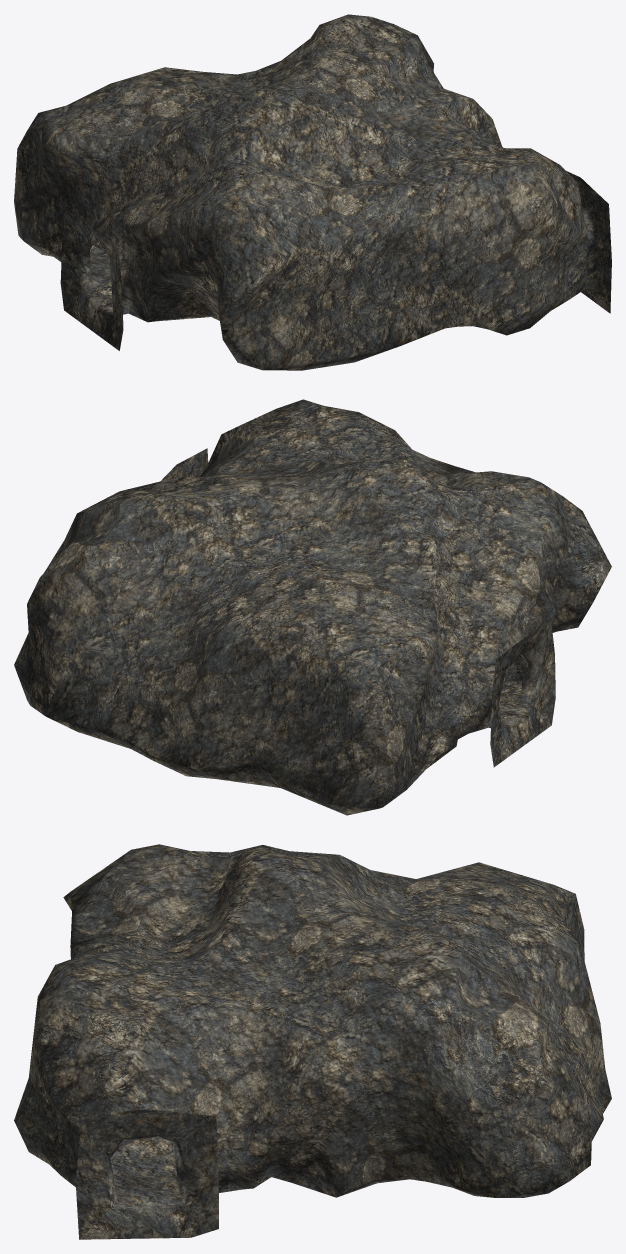
File: Module16_LOD1.fbx
3 views of the same model, one above another, from view 1: azimuth 30°, elevation 25°; view 2: azimuth 150°, elevation 25°; view 3: azimuth 270°, elevation 25° (orthographic). The views are drawn at different scales.
Parts seen in each view (by area): view 1: cave_el16_1800:Group50013; view 2: cave_el16_1800:Group50013; view 3: cave_el16_1800:Group50013.
Boxes of the visible parts, <box> form: cave_el16_1800:Group50013: <box>14,14,611,370</box>; cave_el16_1800:Group50013: <box>14,399,611,815</box>; cave_el16_1800:Group50013: <box>14,844,611,1239</box>.
Bounding box in the file's own units: 30.47 × 15.72 × 33.63.
